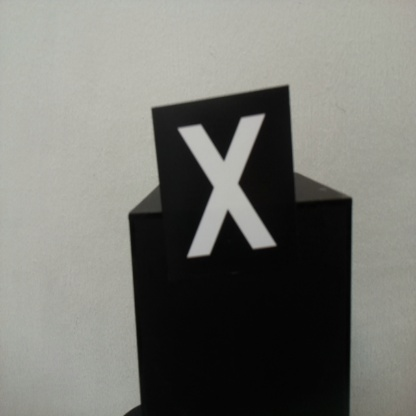id_13: (151, 108, 299, 280)
